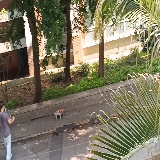fire: (59, 109, 65, 113)
